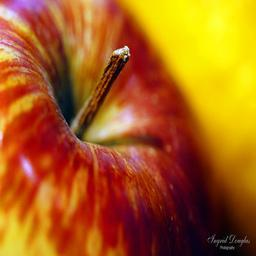apple: (1, 1, 215, 256)
